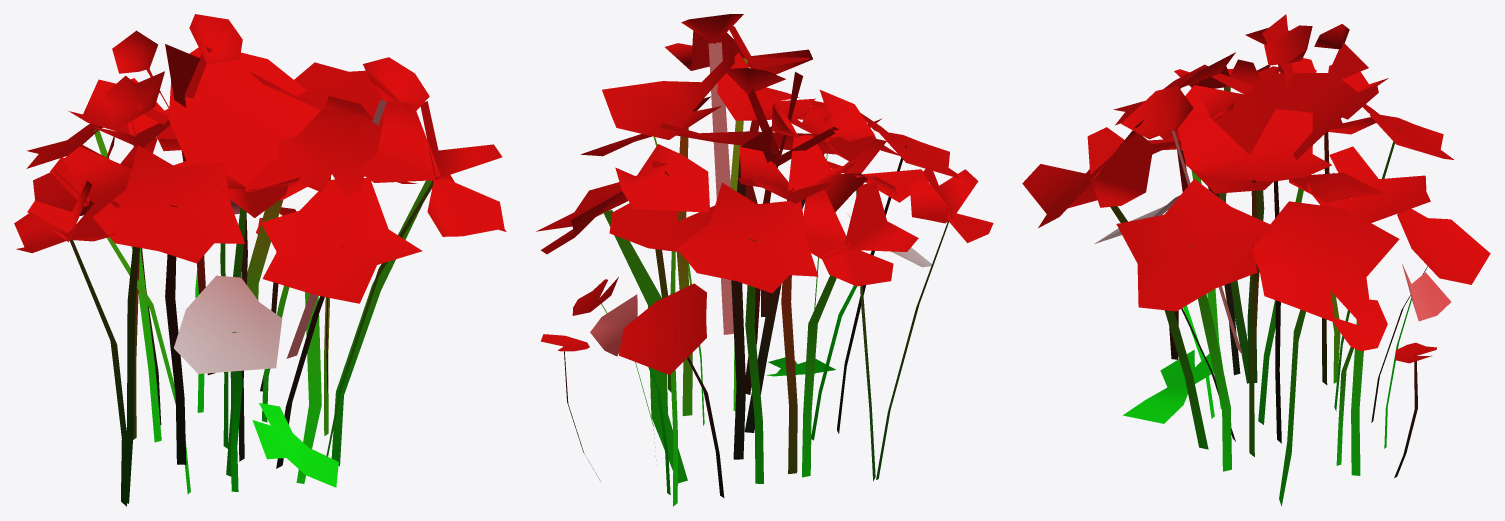
Rendered from Var1_LOD2.fbx.
3 views of the same model, side by side, from view 1: azimuth 30°, elevation 25°; view 2: azimuth 150°, elevation 25°; view 3: azimuth 270°, elevation 25° (orthographic). The views are drawn at different scales.
Visible parts, largest first — view 1: _64a3_Var1_LOD2; view 2: _64a3_Var1_LOD2; view 3: _64a3_Var1_LOD2.
Part boxes in pixels (box(x1,y1,x2,y2)): _64a3_Var1_LOD2: box(14, 14, 506, 506); _64a3_Var1_LOD2: box(536, 14, 993, 506); _64a3_Var1_LOD2: box(1022, 14, 1490, 506).
Bounding box in the file's own units: 27.67 × 28.57 × 27.6.
